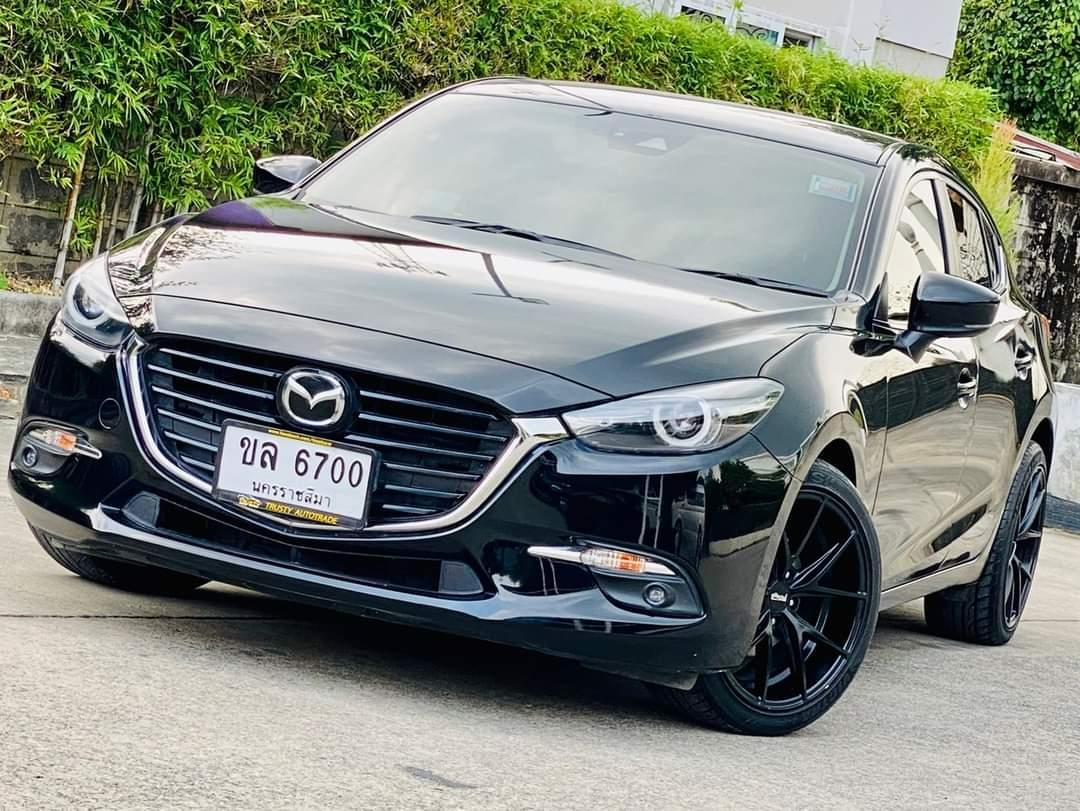license-plate: (208, 414, 381, 538)
